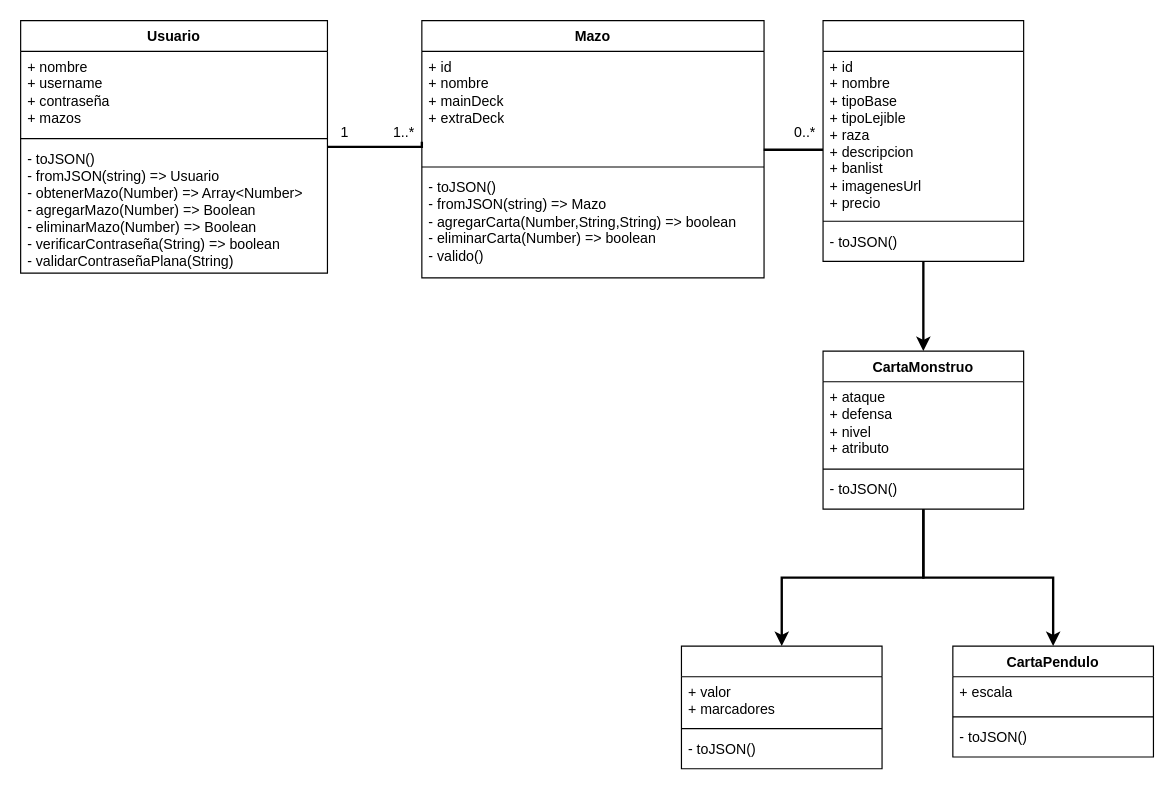
Image size: 1174x793. Some labels were removed from this diagram. Each missing label, with the box of its shape:
Carta: (822, 19, 1024, 261)
CartaLink: (680, 645, 882, 769)
